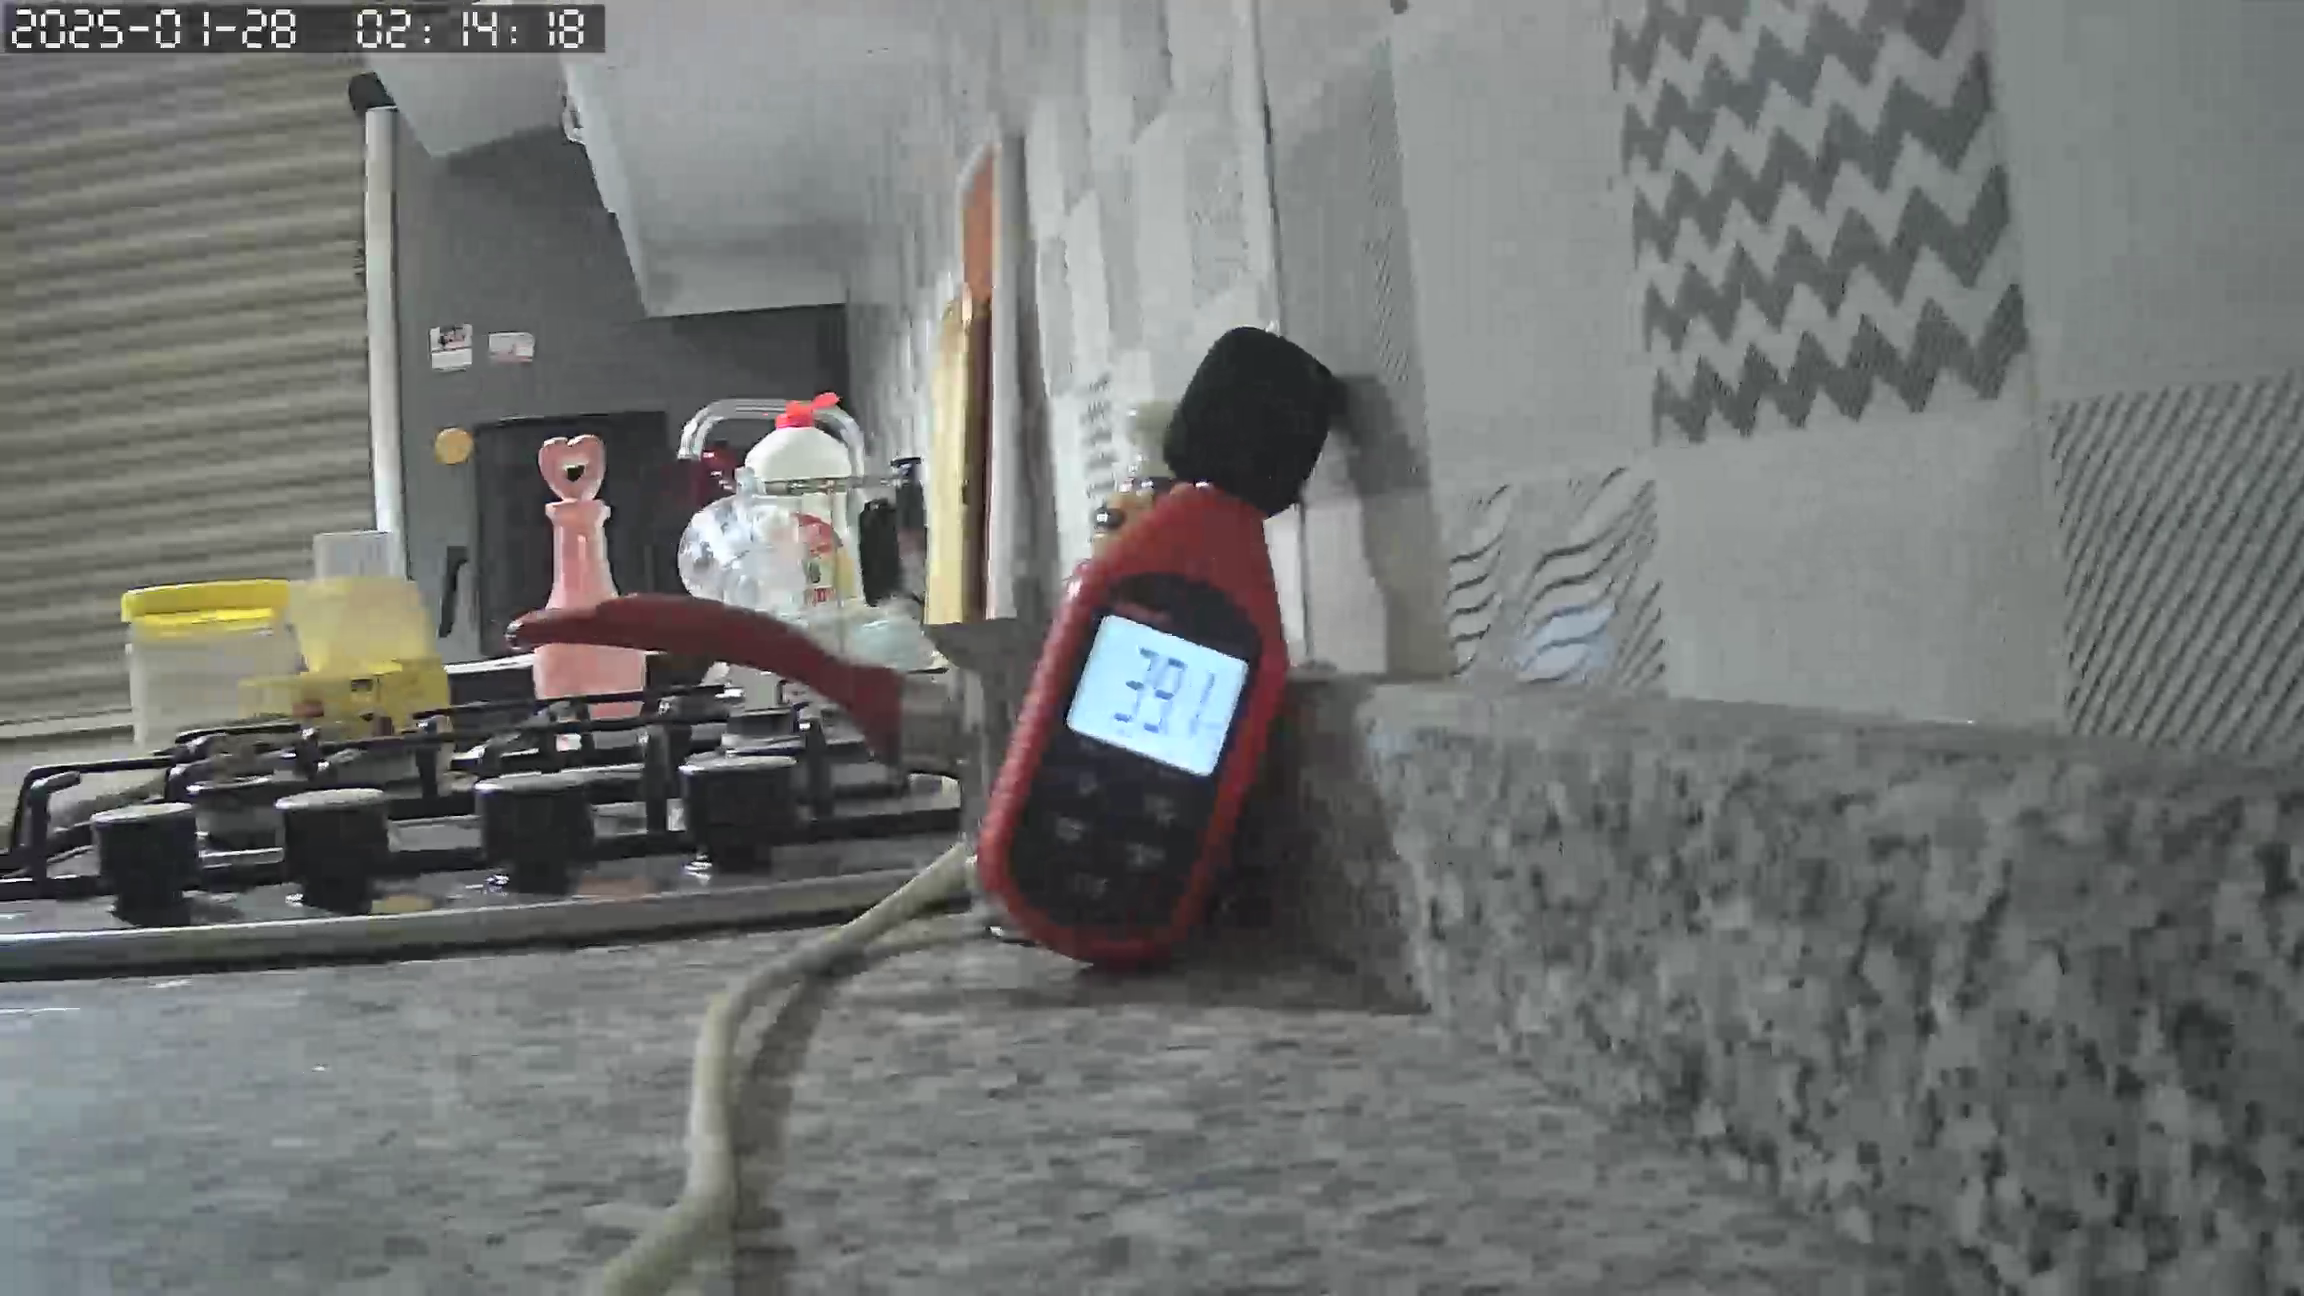screen: (1063, 617, 1249, 779)
